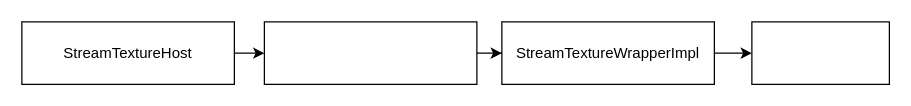
The diagram is 911 pixels wide and 106 high, and some of its shapes have lost their labels. The shapes that lost their labels are listed below. From the top down, each one's box as (x1, y1, x2, y2) in pixels, then its label:
(263, 21, 477, 84): StreamTextureProxy
(751, 21, 889, 84): VideoFrame
